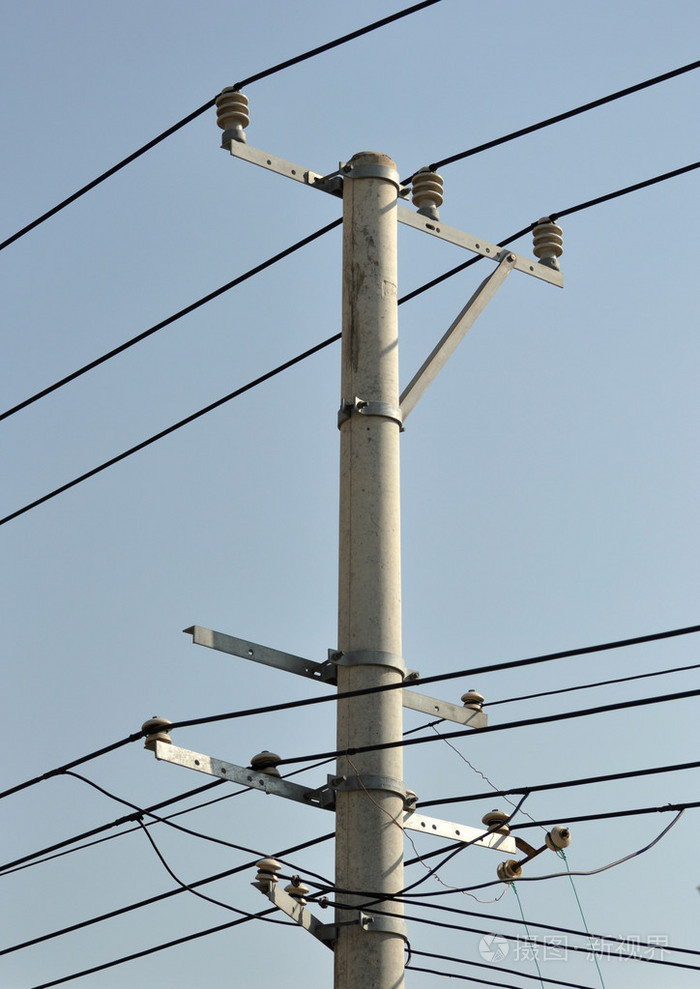insulator: (213, 94, 254, 129), (408, 171, 449, 206), (533, 222, 567, 259)
